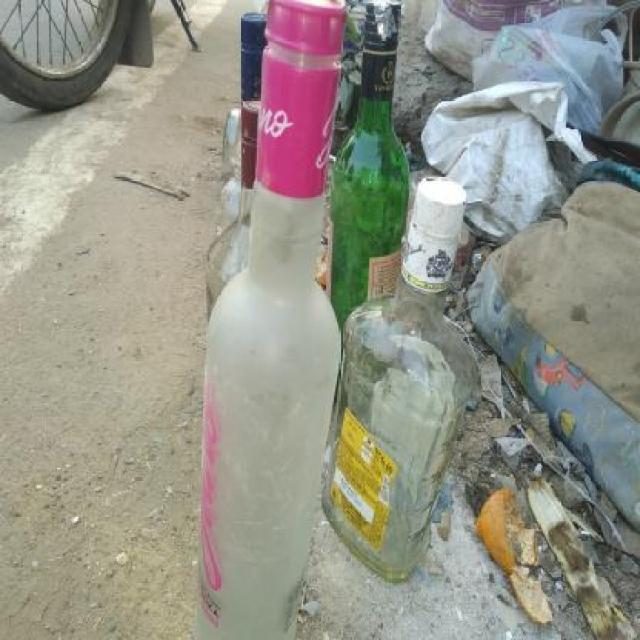garbage: (201, 20, 494, 640), (459, 392, 619, 640), (459, 12, 640, 156)
